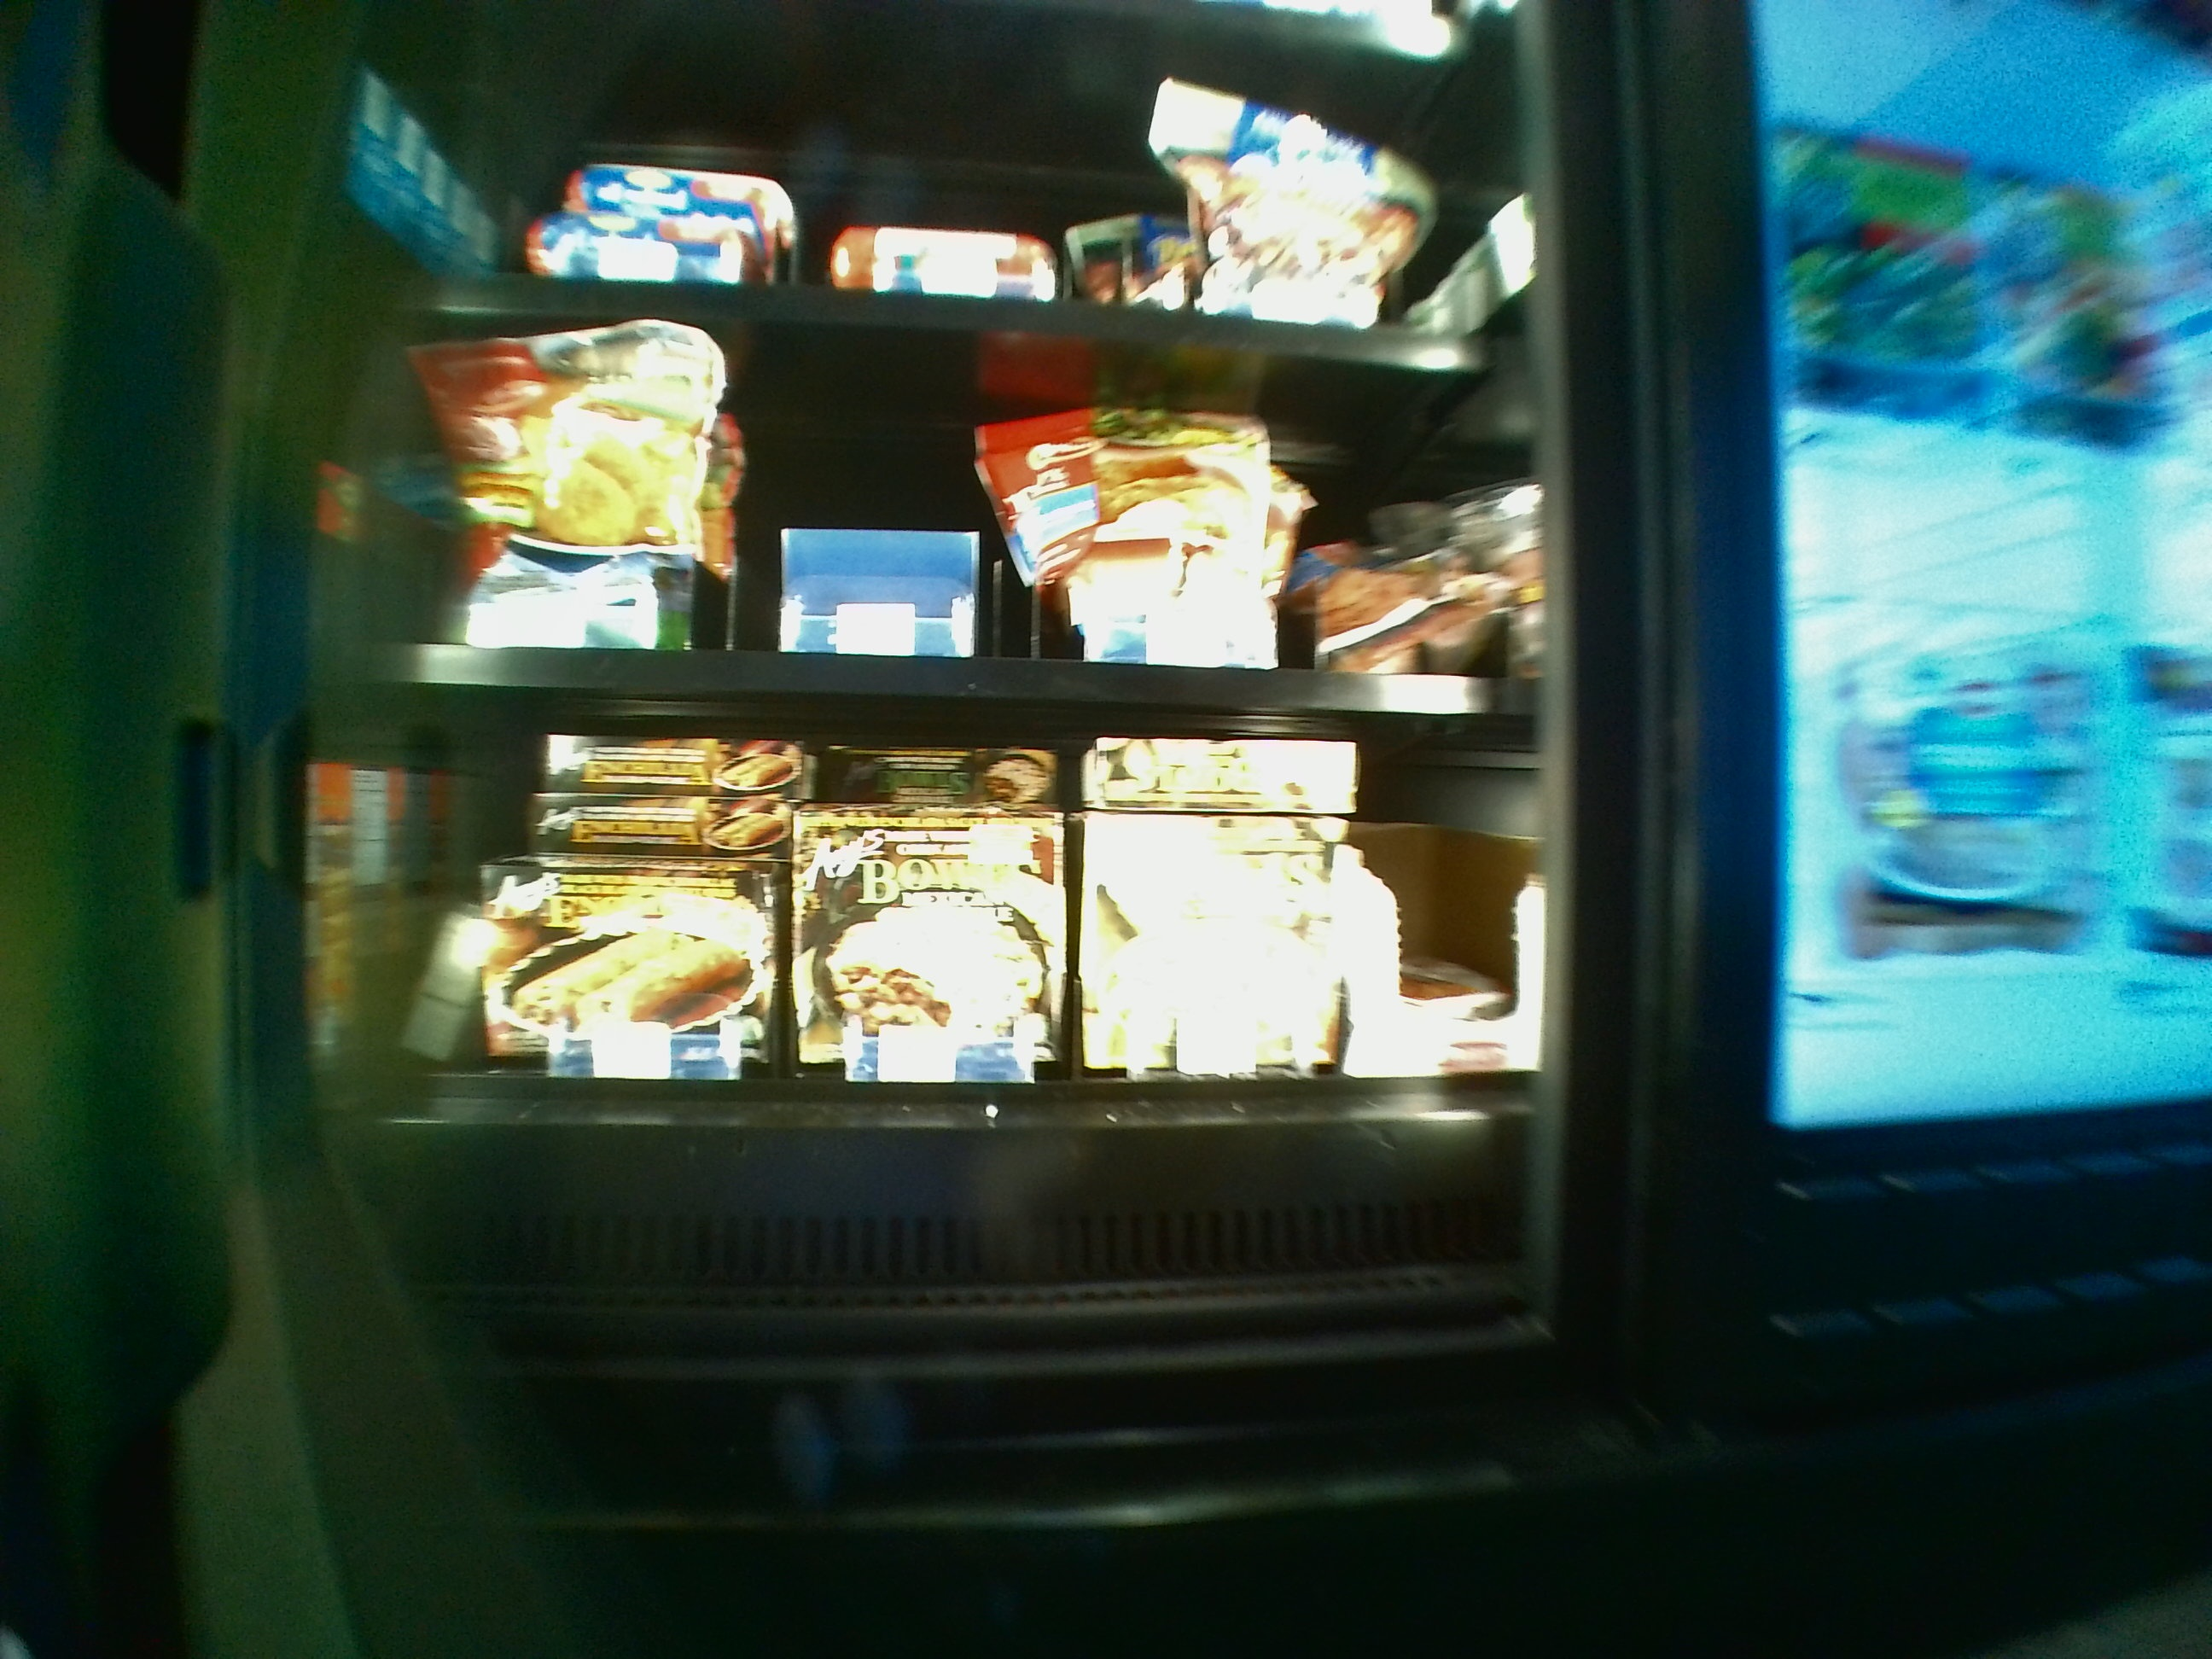shelf: (340, 711, 1519, 1314), (341, 319, 1524, 713)
